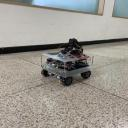cart: (41, 53, 95, 86)
